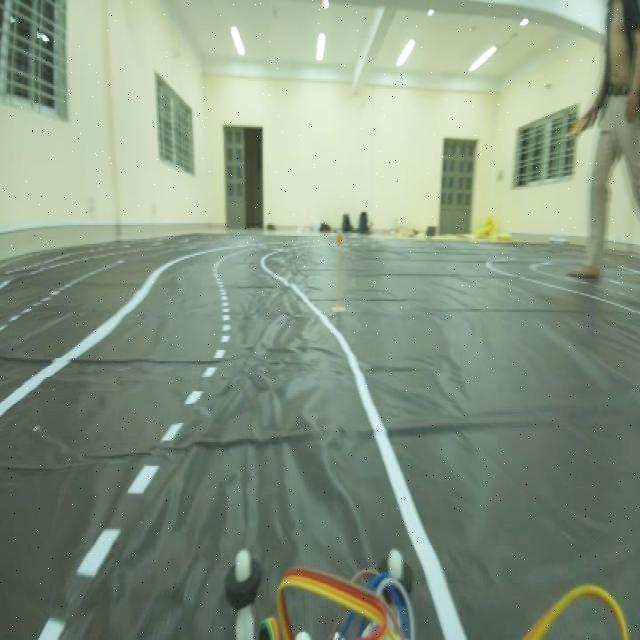priority: (335, 224, 344, 253)
